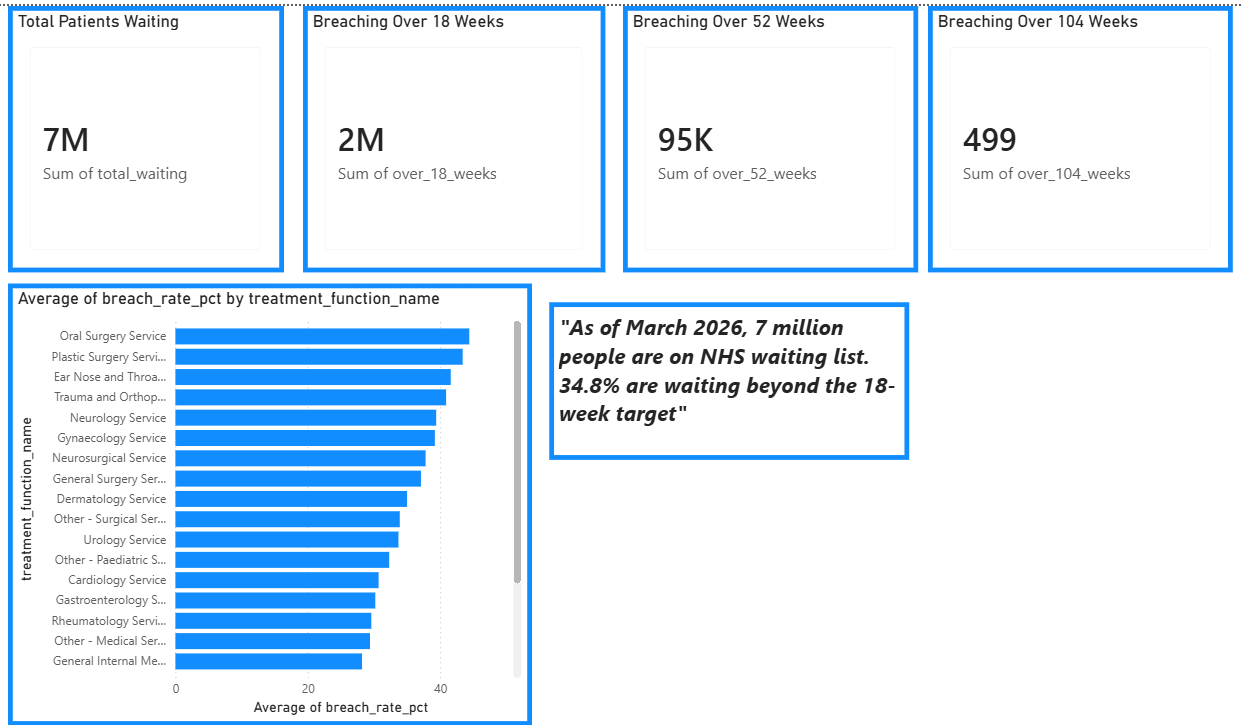

The page's visual inventory and layout, read from the dashboard file:
{"tool":"powerbi","page":{"name":"Executive Overview","canvas":[1280,720],"ordinal":0},"visuals":[{"type":"cardVisual","title":"Total Patients Waiting","fields":{"Data":["Sum(powerbi_specialty (1).total_waiting)"]},"box":[9.6,0,275.8,266.2],"z":0},{"type":"cardVisual","title":"Breaching Over 18 Weeks","fields":{"Data":["Sum(powerbi_specialty (1).over_18_weeks)"]},"box":[305,0,302.5,266.2],"z":1000},{"type":"cardVisual","title":"Breaching Over 52 Weeks","fields":{"Data":["Sum(powerbi_specialty (1).over_52_weeks)"]},"box":[625,0,295,266.2],"z":2000},{"type":"cardVisual","title":"Breaching Over 104 Weeks","fields":{"Data":["Sum(powerbi_specialty (1).over_104_weeks)"]},"box":[930,0,305,266.2],"z":3000},{"type":"clusteredBarChart","fields":{"Category":["powerbi_specialty (1).treatment_function_name"],"Y":["Avg(powerbi_specialty (1).breach_rate_pct)"]},"box":[10,277.5,523.8,442.5],"z":4000},{"type":"textbox","box":[551.2,296.2,360,157.5],"z":5000}]}

Visuals, with their boxes in screenshot pixels (x1, y1, x2, y2):
"Total Patients Waiting" cardVisual: bbox(6, 0, 280, 264)
"Breaching Over 18 Weeks" cardVisual: bbox(299, 0, 599, 264)
"Breaching Over 52 Weeks" cardVisual: bbox(617, 0, 909, 264)
"Breaching Over 104 Weeks" cardVisual: bbox(919, 0, 1222, 264)
clusteredBarChart - powerbi_specialty (1).treatment_function_name x Avg(powerbi_specialty (1).breach_rate_pct): bbox(7, 275, 526, 714)
textbox: bbox(544, 294, 901, 450)
